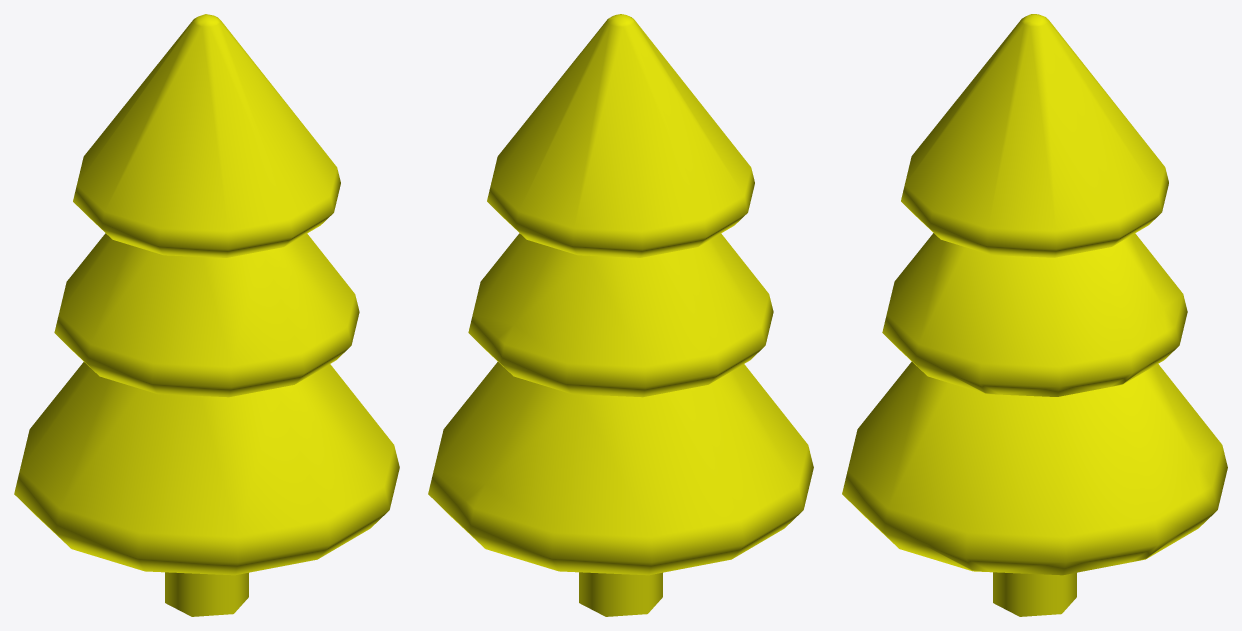
3 views of the same model, side by side, from view 1: azimuth 30°, elevation 25°; view 2: azimuth 150°, elevation 25°; view 3: azimuth 270°, elevation 25° (orthographic).
Parts seen in each view (by area): view 1: tree; view 2: tree; view 3: tree.
Part boxes in pixels (x1,y1,x2,y2): tree: [14, 14, 399, 616]; tree: [428, 14, 813, 616]; tree: [842, 14, 1227, 616].
Bounding box in the file's own units: 2.11 × 3.52 × 2.11.
1 material, 1 textured.
